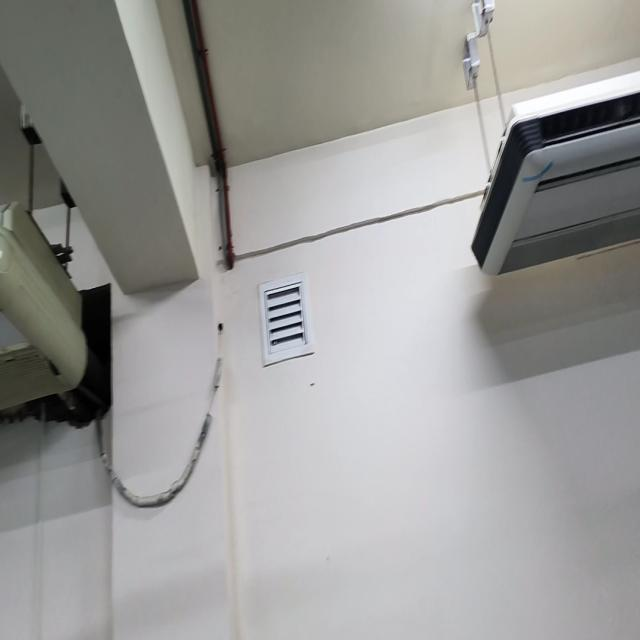Ac: (471, 71, 640, 276), (0, 202, 88, 409)
